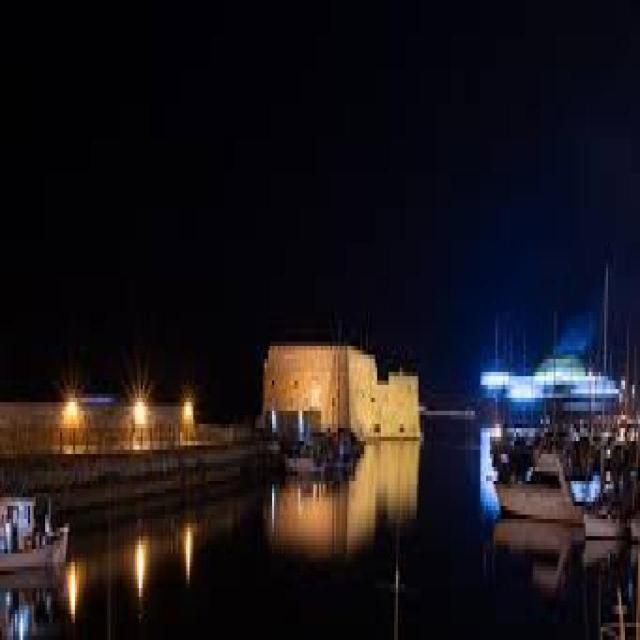Kules: (262, 339, 424, 445)
